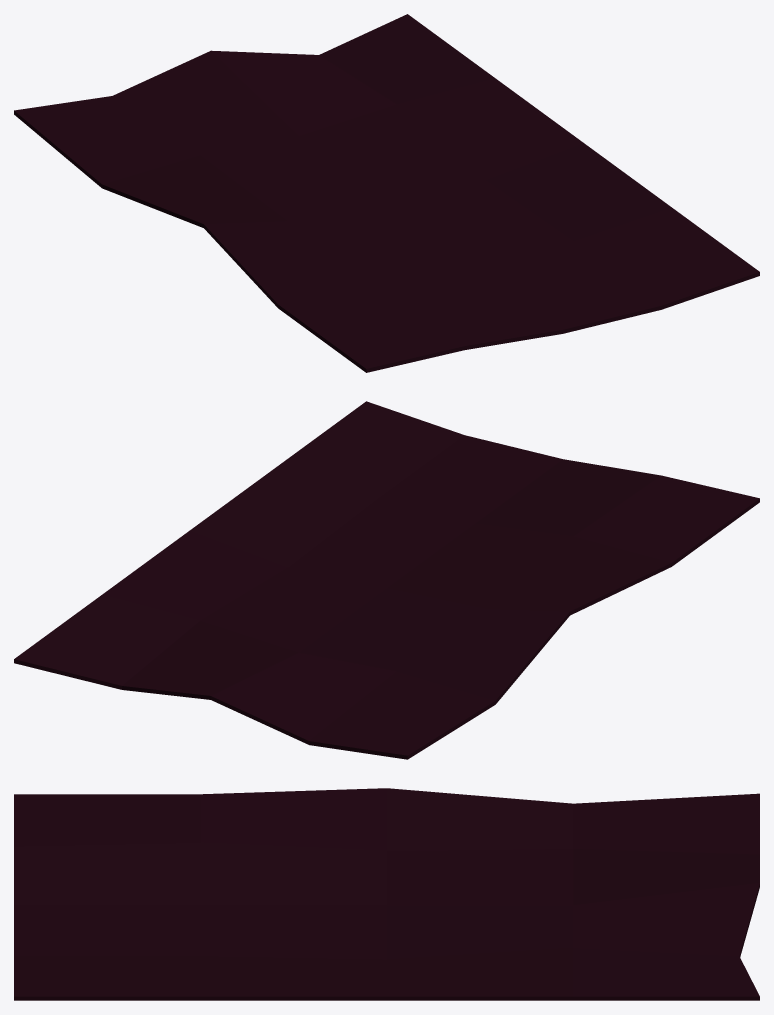
Rendered from newspaper.fbx.
3 views of the same model, one above another, from view 1: azimuth 30°, elevation 25°; view 2: azimuth 150°, elevation 25°; view 3: azimuth 270°, elevation 25° (orthographic). The views are drawn at different scales.
Parts seen in each view (by area): view 1: Plane; view 2: Plane; view 3: Plane.
Part boxes in pixels (left/top/right/bottom): Plane: left=14, top=14, right=759, bottom=372; Plane: left=14, top=401, right=759, bottom=759; Plane: left=14, top=788, right=759, bottom=1000.
Bounding box in the file's own units: 200 × 13.85 × 310.
